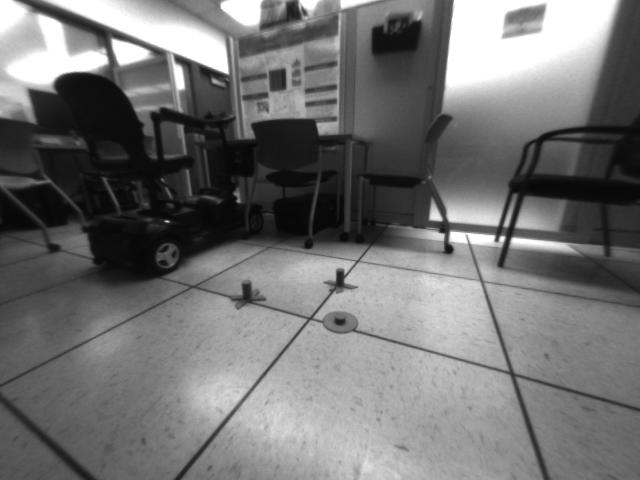X: (231, 277, 267, 310), (324, 268, 356, 293)
